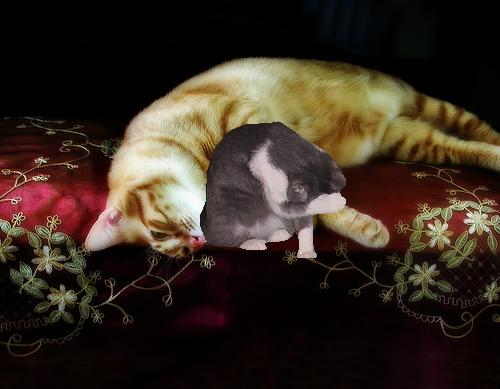tampered: (201, 122, 346, 258)
